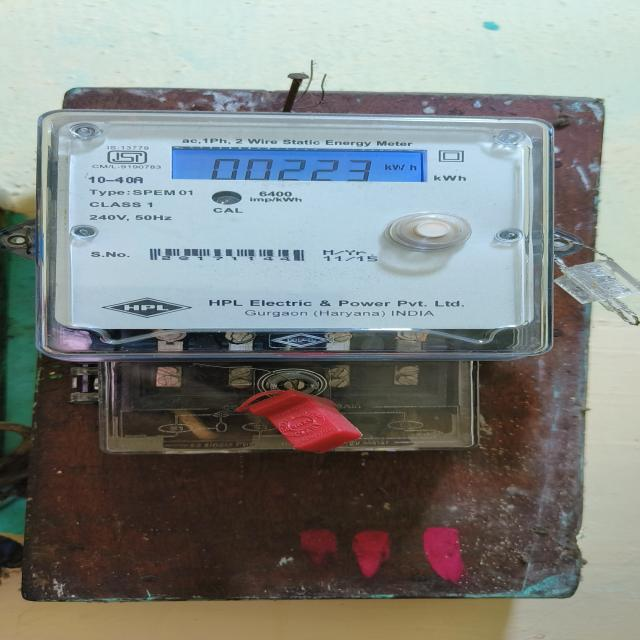display: (154, 142, 438, 184)
